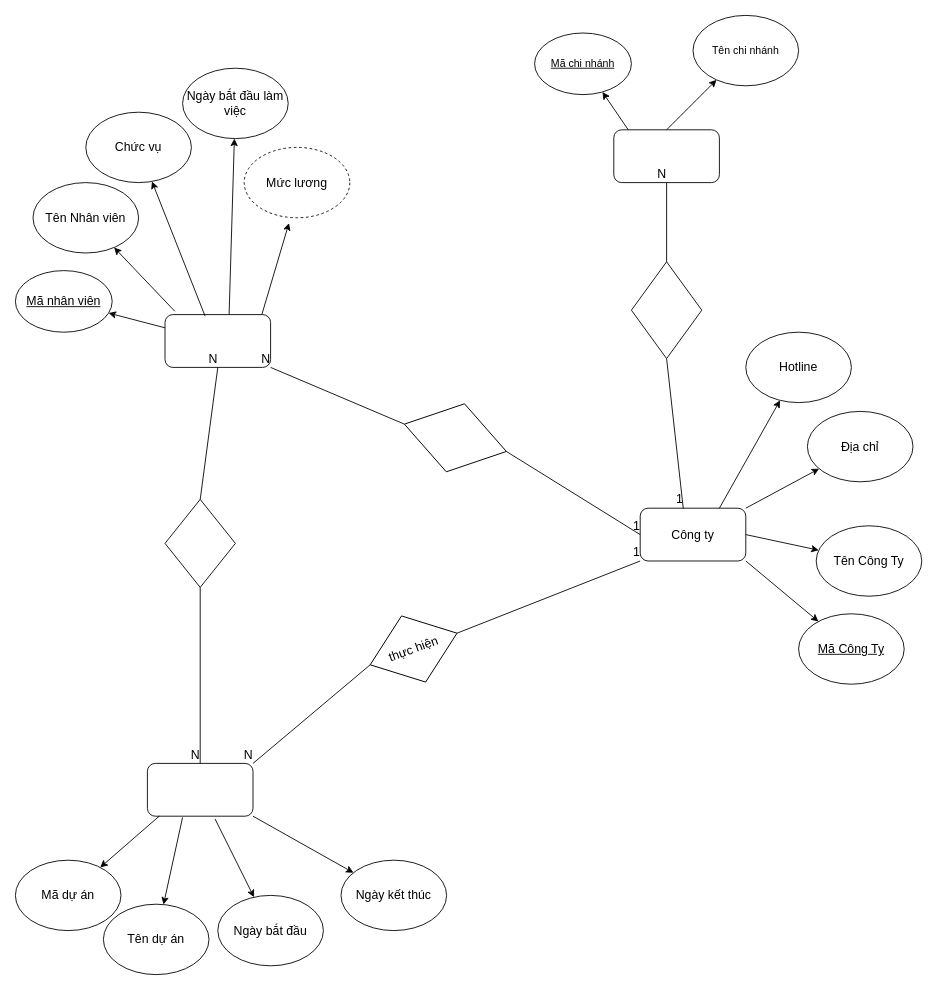
This 937x990 diagram has some shape labels left out. Each missing label, with the box of its shape:
Chi nhánh: (613, 129, 719, 183)
có: (631, 261, 702, 359)
Dự án: (147, 763, 253, 816)
Làm việc: (394, 389, 516, 486)
Nhân viên: (164, 314, 271, 367)
